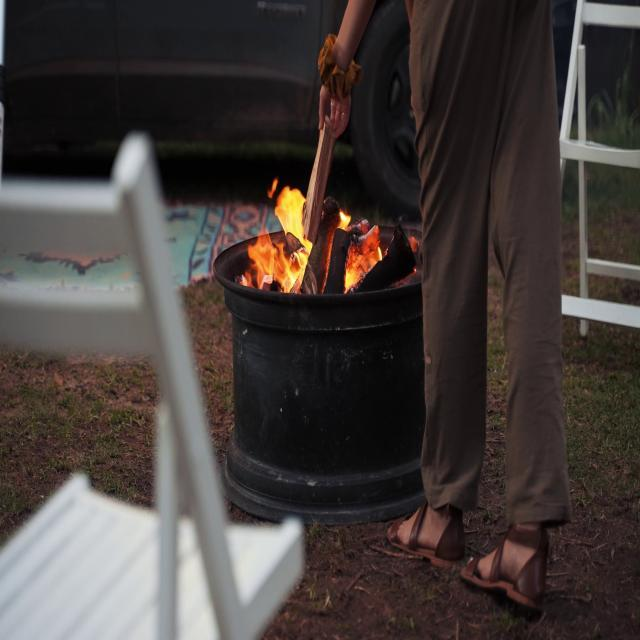Fire: (244, 180, 386, 290), (245, 176, 312, 292), (339, 205, 387, 290)
